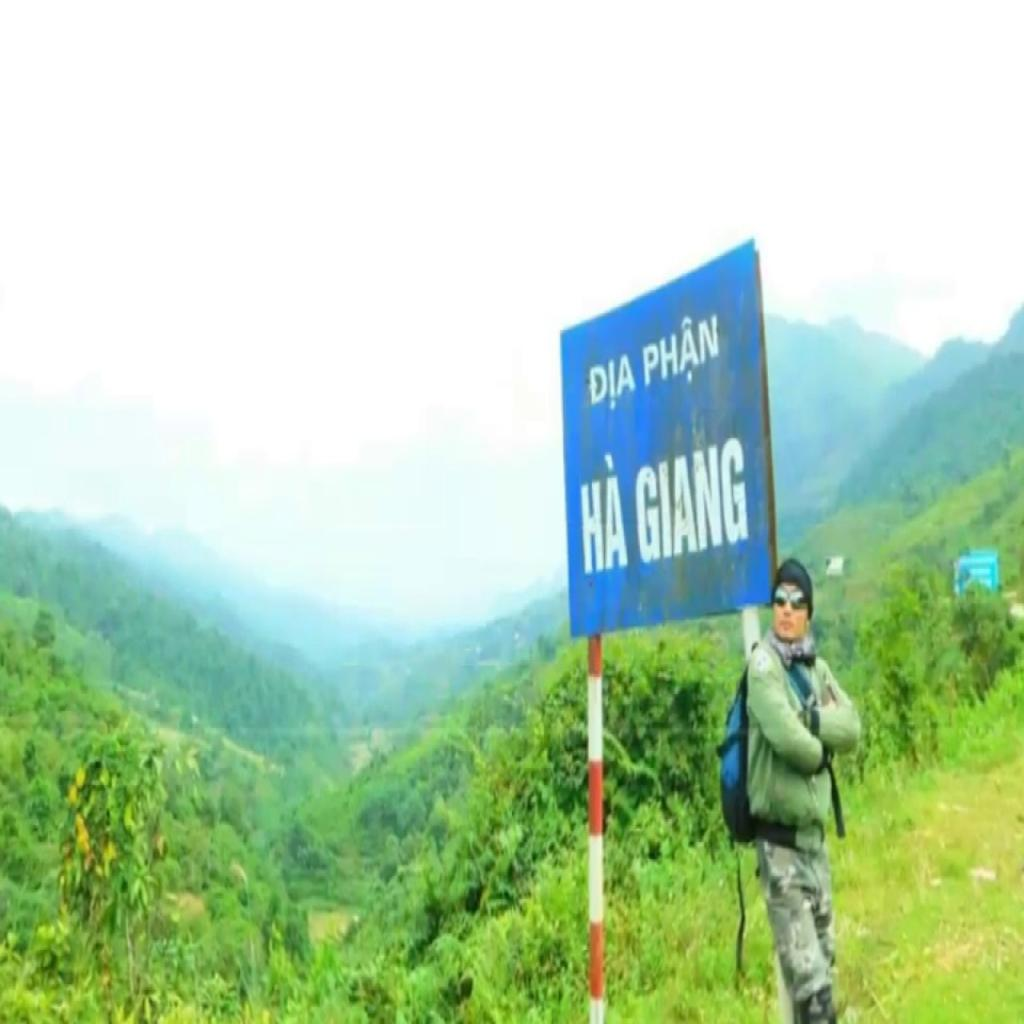text: (631, 428, 752, 566), (576, 444, 634, 582), (638, 306, 723, 395), (582, 349, 637, 418)
